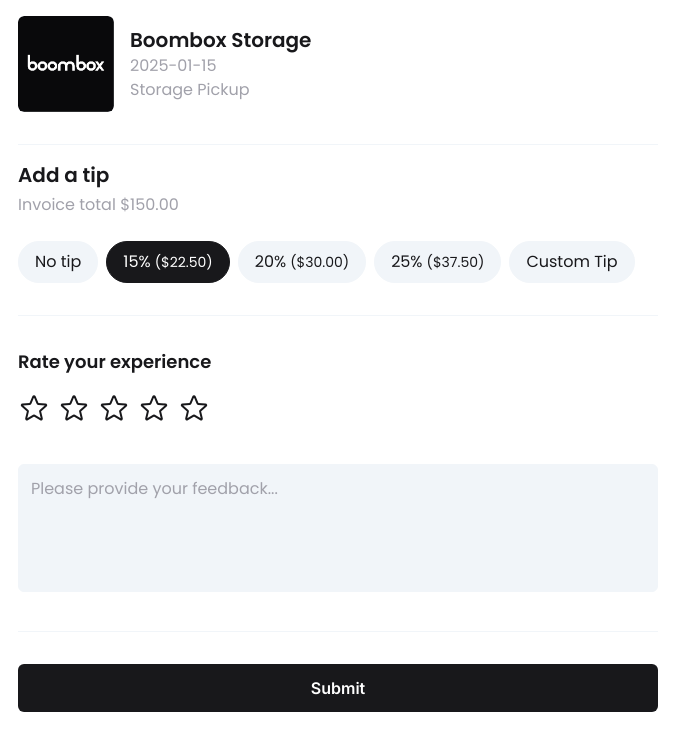
Test: FeedbackForm › User Interactions › handles custom tip input
Step 1. Click the button "Custom Tip" → (572, 262), box [509,241,635,283]
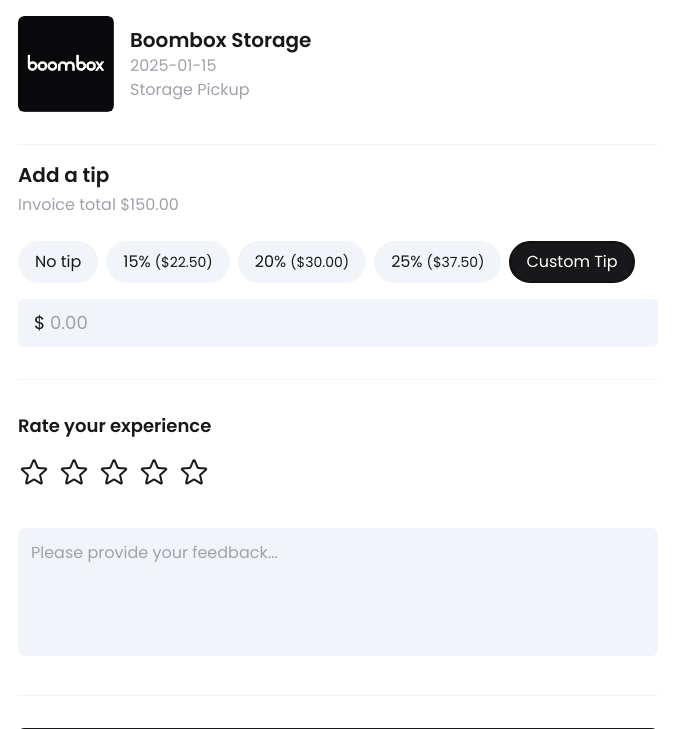
Expected: the number field named "custom tip amount" is shown
Step 2. Type "25.50" into the number field named "custom tip amount" → (338, 323), box [18,299,658,347]
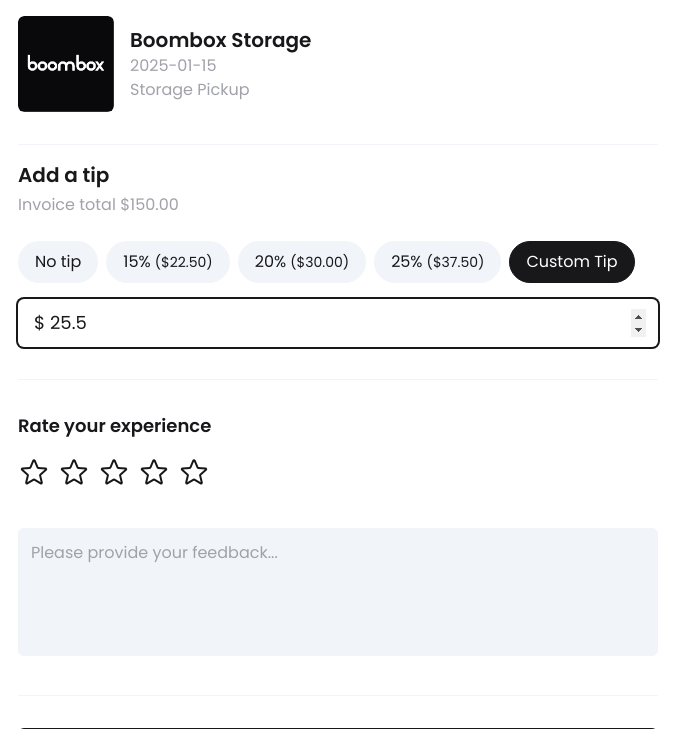
Expected: the number field named "custom tip amount" holds "25.5", [18,299,658,347]
